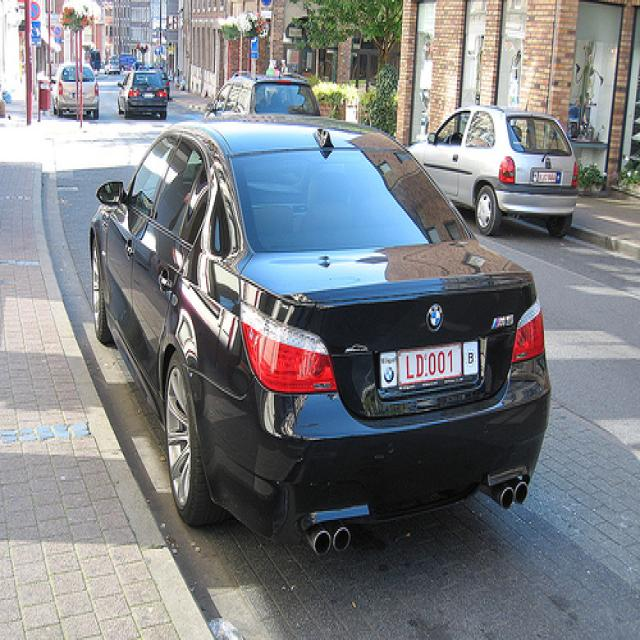car: (83, 101, 556, 581), (404, 98, 585, 249), (199, 65, 320, 123), (50, 54, 105, 125), (109, 63, 173, 119)
